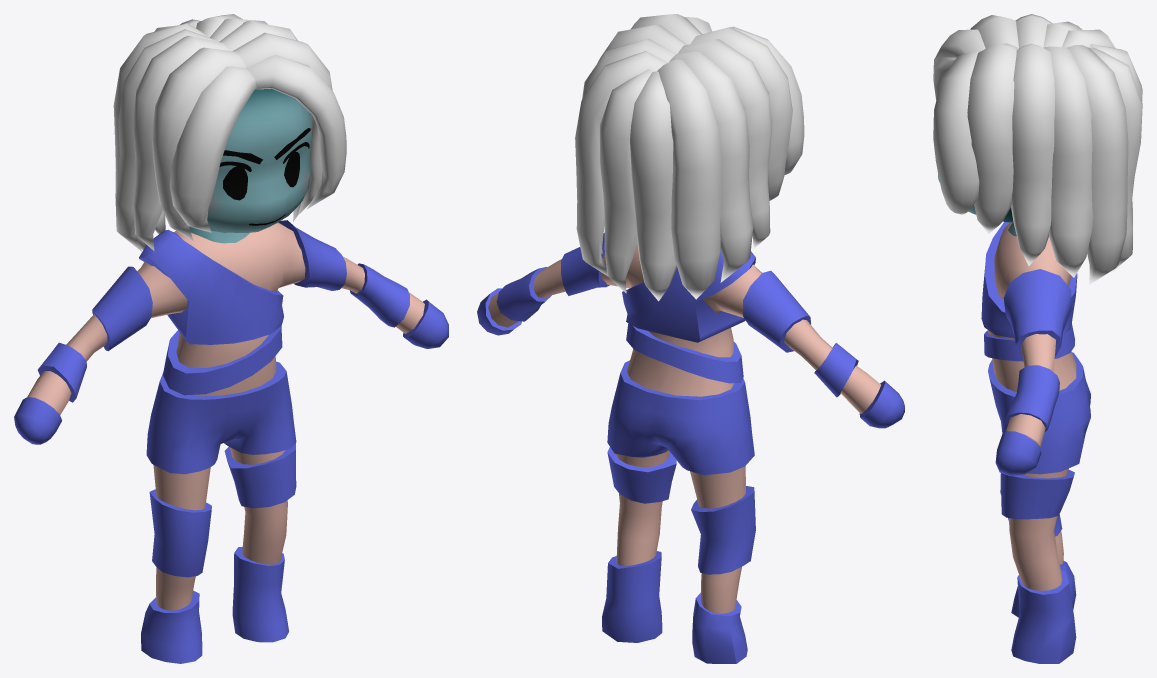
File: Npc_03.fbx
The picture shows the model from 3 angles, left to right: view 1: azimuth 30°, elevation 25°; view 2: azimuth 150°, elevation 25°; view 3: azimuth 270°, elevation 25°; orthographic projection. The views are drawn at different scales.
Parts seen in each view (by area): view 1: Base_Swirls, NurbsPath.002, Body, Head; view 2: NurbsPath.002, Base_Swirls, Body; view 3: NurbsPath.002, Base_Swirls, Body.
Boxes of the visible parts, left/top/right/bottom form: Base_Swirls: left=14, top=220, right=448, bottom=663; NurbsPath.002: left=113, top=14, right=346, bottom=251; Body: left=27, top=222, right=424, bottom=610; Head: left=189, top=88, right=311, bottom=243; NurbsPath.002: left=575, top=14, right=804, bottom=301; Base_Swirls: left=477, top=233, right=904, bottom=663; Body: left=488, top=242, right=880, bottom=613; NurbsPath.002: left=933, top=14, right=1142, bottom=284; Base_Swirls: left=981, top=222, right=1090, bottom=663; Body: left=988, top=222, right=1076, bottom=590.
Bounding box in the file's own units: 277 × 380 × 120.
